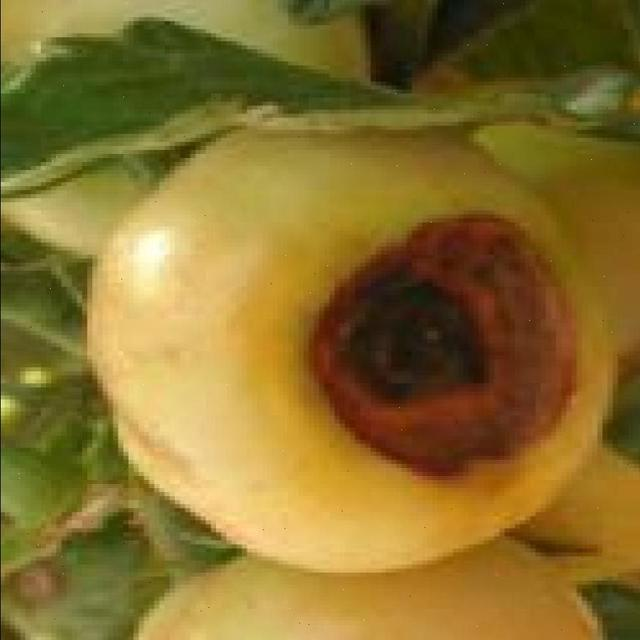Blossom End Rot Fruit: (186, 134, 389, 349)
